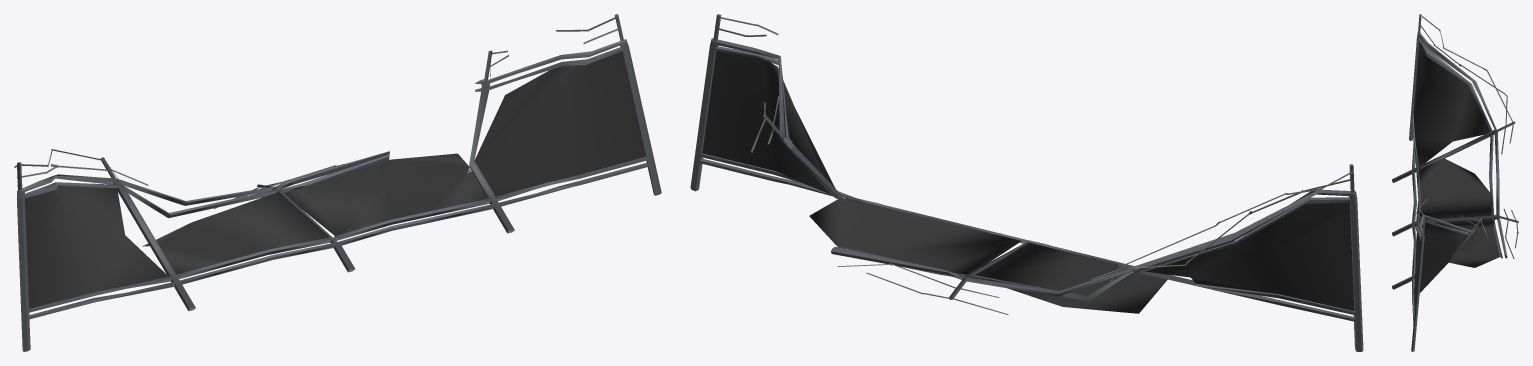
File: SM_Prop_Fence_Damaged_04.fbx
3 renders of one model, left to right at view 1: azimuth 30°, elevation 25°; view 2: azimuth 150°, elevation 25°; view 3: azimuth 270°, elevation 25°, orthographic. The views are drawn at different scales.
Parts seen in each view (by area): view 1: SM_Prop_Fence_Damaged_04; view 2: SM_Prop_Fence_Damaged_04; view 3: SM_Prop_Fence_Damaged_04.
Part boxes in pixels (x1,y1,x2,y2): SM_Prop_Fence_Damaged_04: [14, 14, 661, 351]; SM_Prop_Fence_Damaged_04: [690, 14, 1363, 351]; SM_Prop_Fence_Damaged_04: [1392, 14, 1518, 351].
Bounding box in the file's own units: 1167 × 318 × 292.
